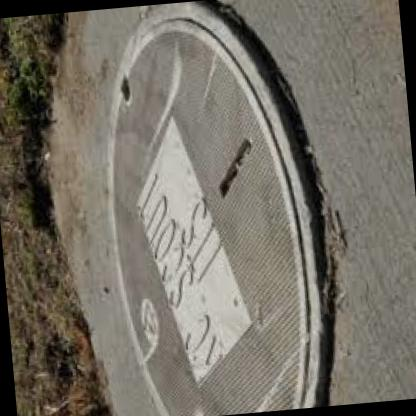manholes: (73, 0, 357, 416)
